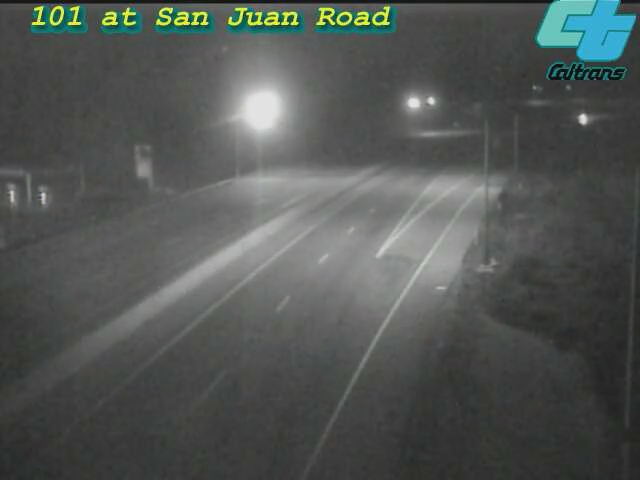vehicle: (556, 93, 606, 143)
